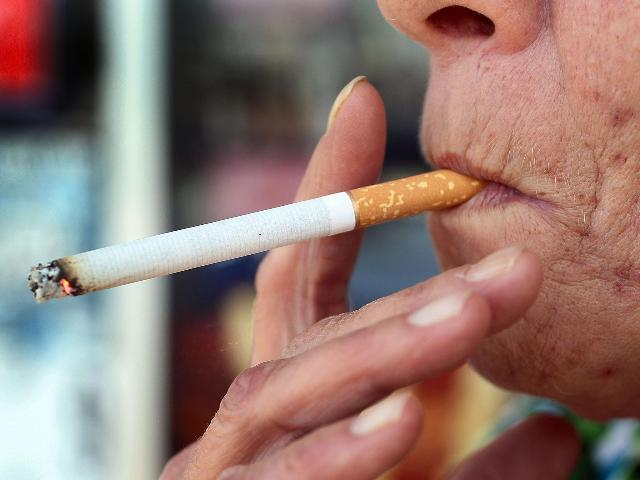Cigarette: (28, 166, 494, 306)
